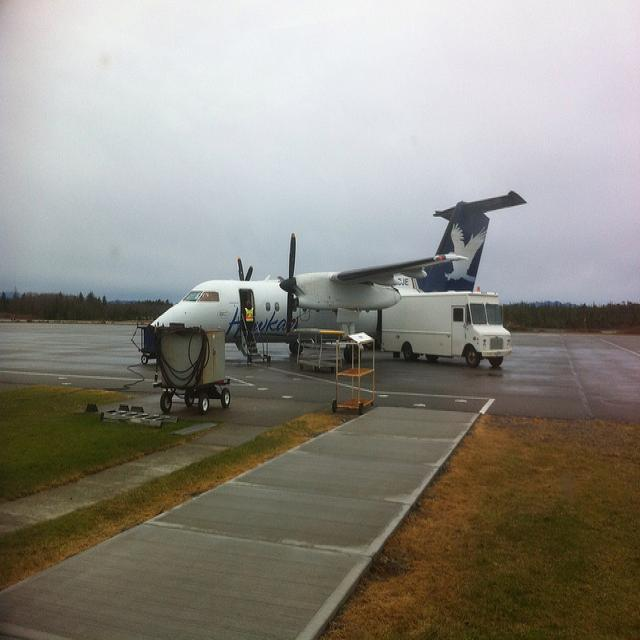Vehicle: (381, 292, 513, 368)
